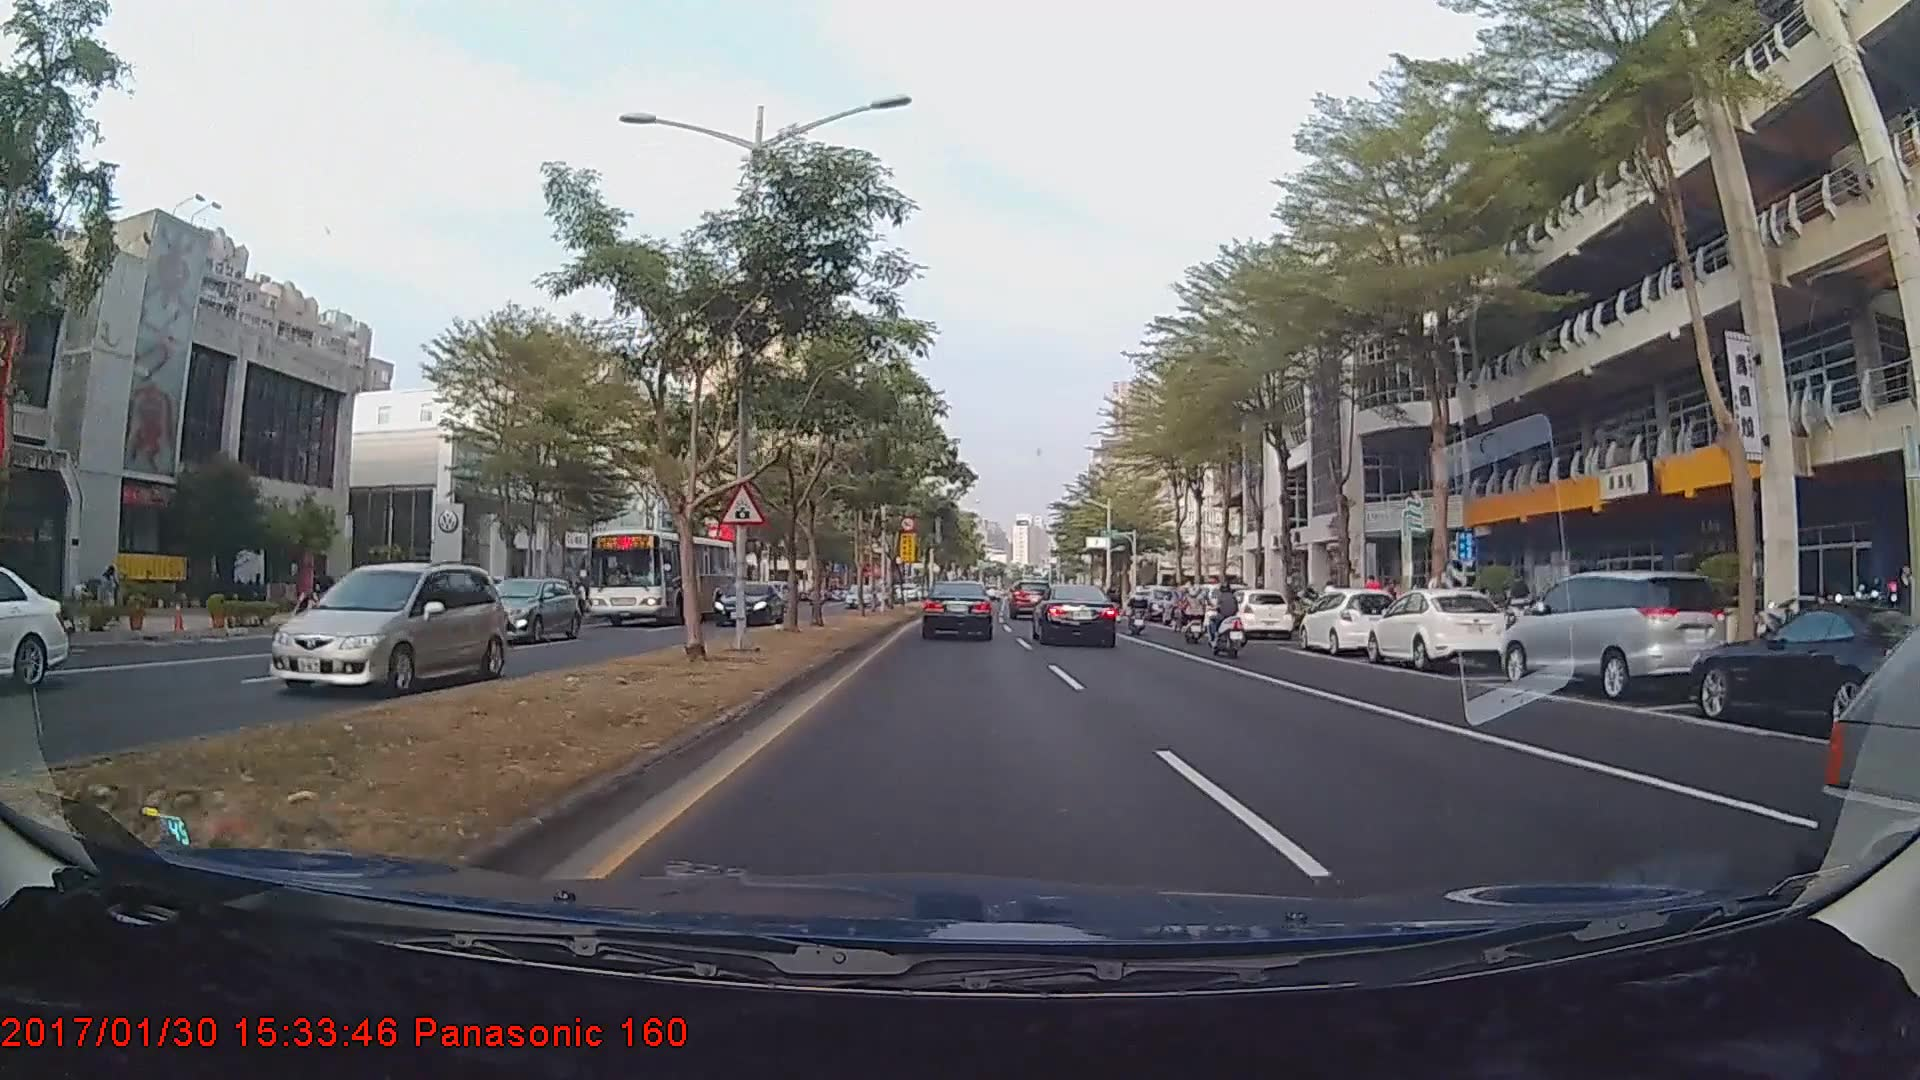rider: (1204, 582, 1253, 663), (1174, 590, 1217, 647), (1125, 586, 1151, 639)
vehicle: (1687, 598, 1920, 741), (262, 563, 507, 698), (1497, 569, 1729, 702), (584, 529, 740, 628), (1364, 589, 1509, 671), (0, 562, 73, 697), (470, 579, 577, 646), (1297, 588, 1403, 657), (1034, 583, 1117, 648), (919, 578, 994, 642), (1217, 589, 1294, 641), (1174, 581, 1251, 630), (711, 582, 785, 627), (1007, 585, 1049, 624), (842, 584, 877, 609)
